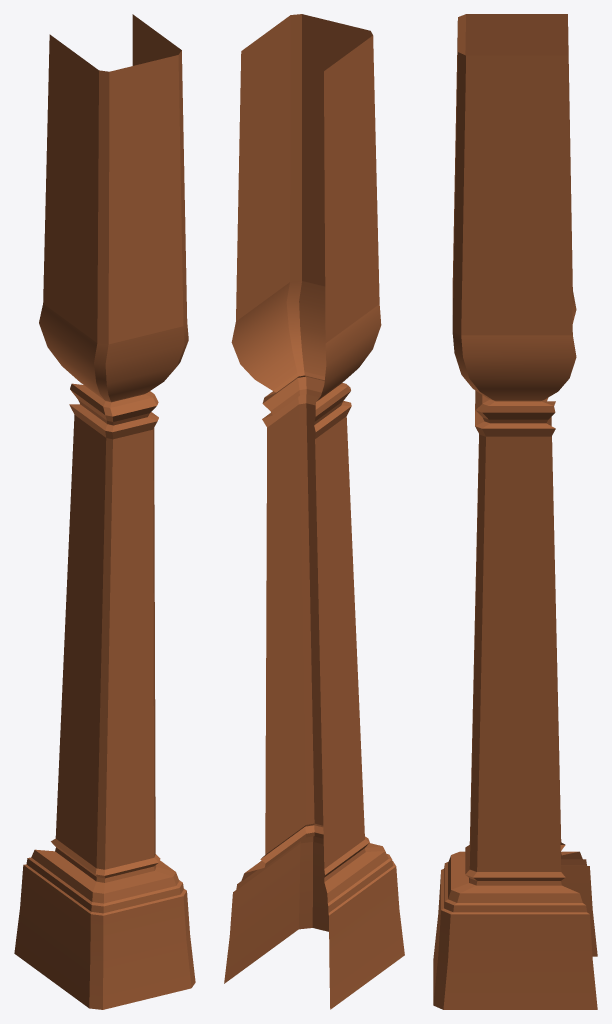
Rendered from Column 2.fbx.
3 views of the same model, side by side, from view 1: azimuth 30°, elevation 25°; view 2: azimuth 150°, elevation 25°; view 3: azimuth 270°, elevation 25° (orthographic). The views are drawn at different scales.
Parts seen in each view (by area): view 1: Column_04; view 2: Column_04; view 3: Column_04.
Boxes of the visible parts, x1,y1,x2,y2 form: Column_04: (14, 14, 195, 1009); Column_04: (224, 14, 404, 1009); Column_04: (433, 14, 597, 1009).
Size of the model in its own units: 67.18 by 544 by 85.2.
